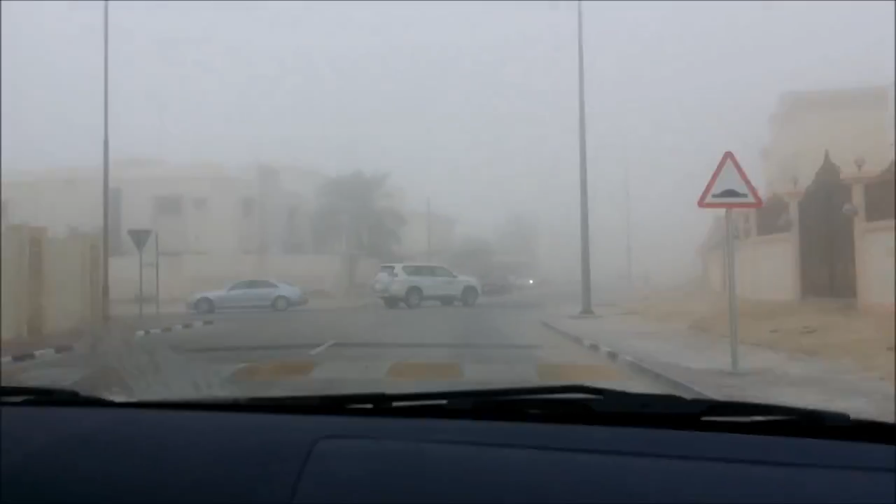car: (371, 263, 484, 310), (184, 276, 310, 315)
